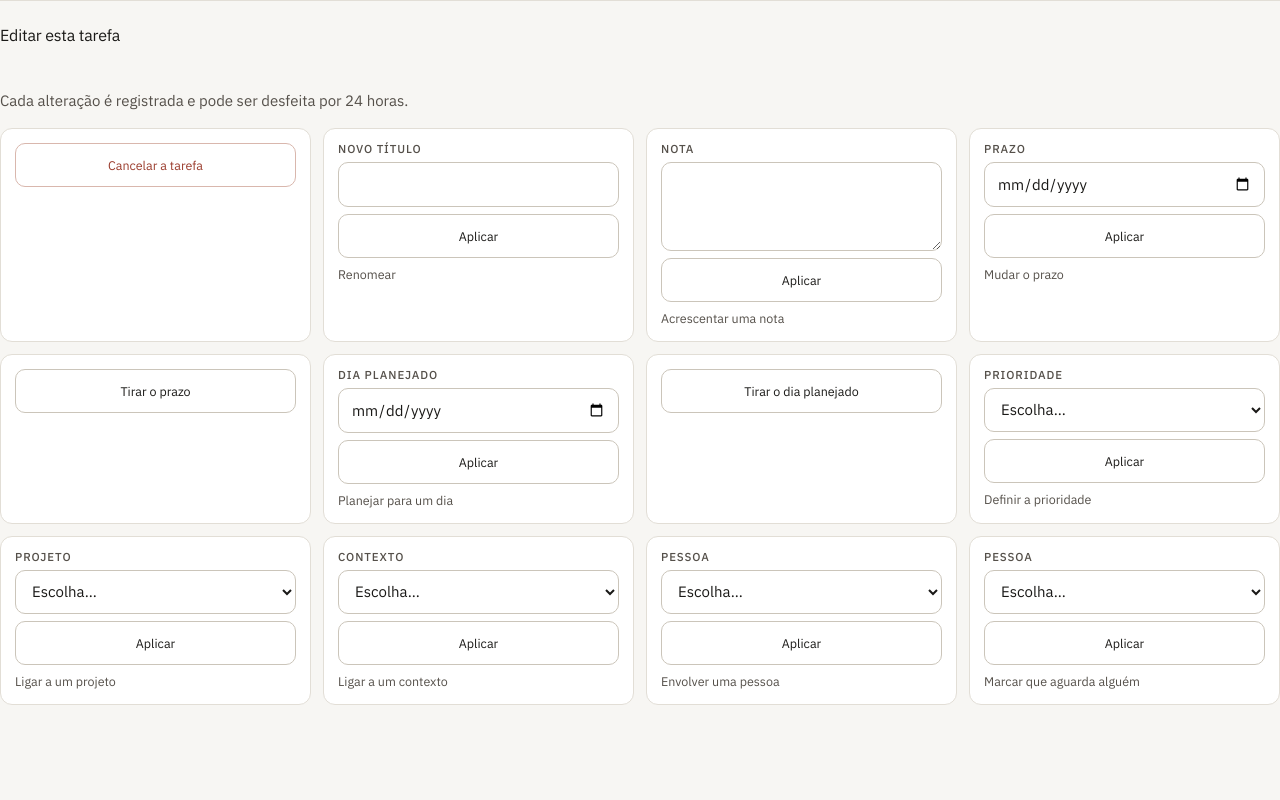
Test case: 2E-DESTRUCTIVE-003 — the dialog opens only after confirmation was issued › abandons the issued confirmation on dismissal, submitting nothing
Click the button "Cancelar a tarefa" at [156, 165], box [15, 143, 296, 187]
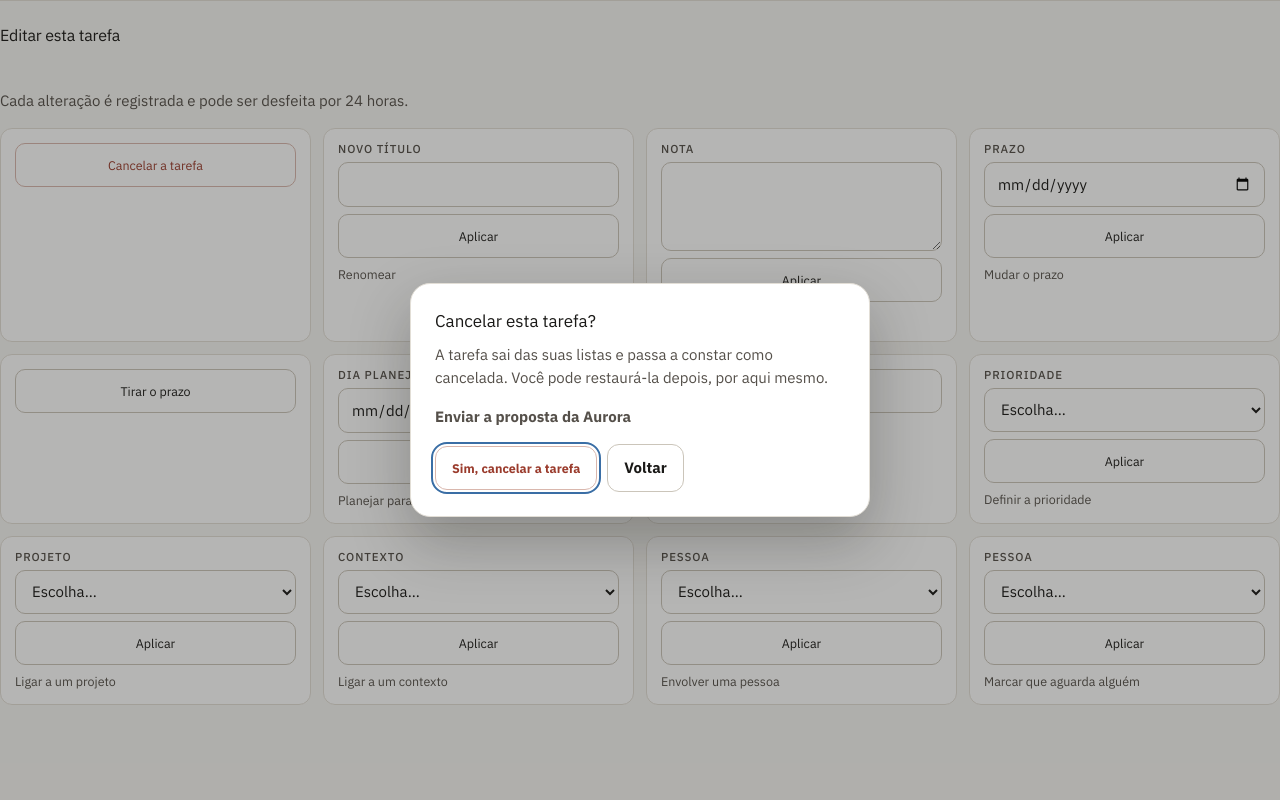
Click the button "Voltar" at [646, 468], box [607, 444, 684, 492]
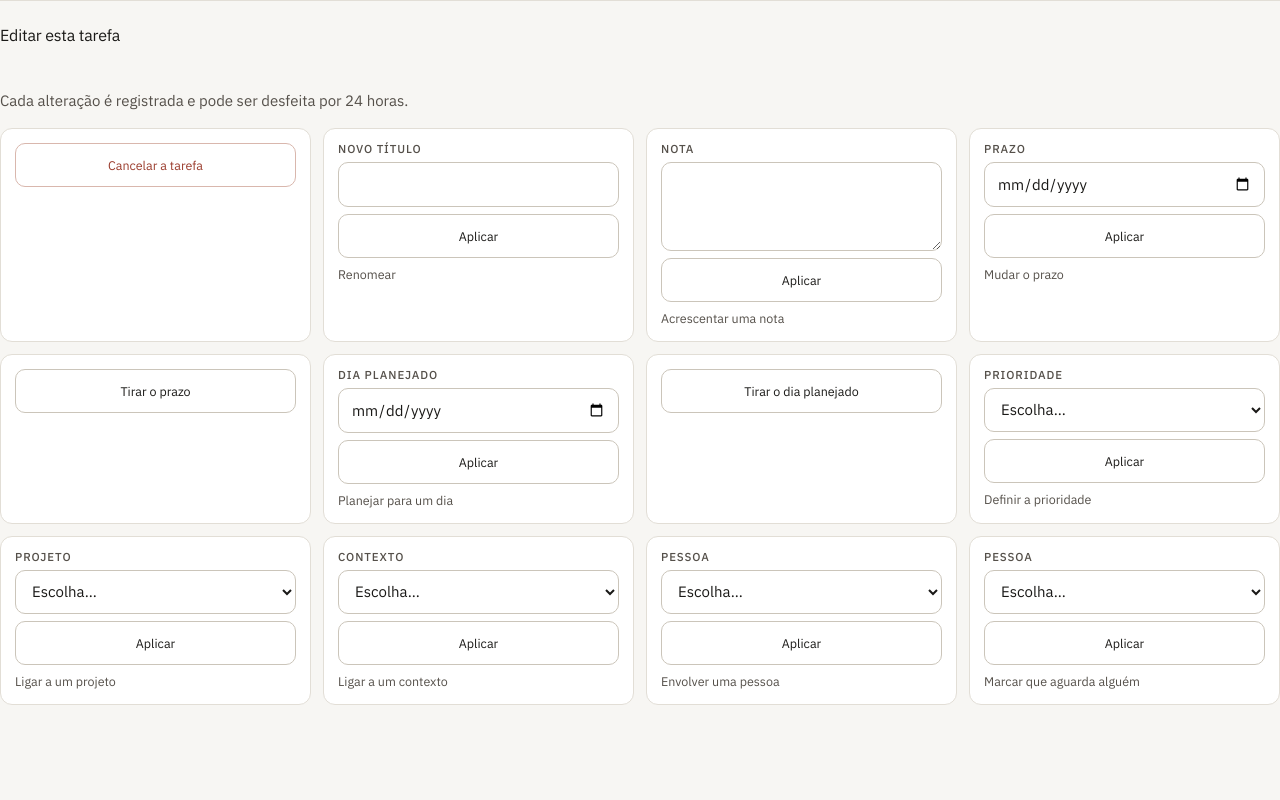
Expected: the dialog is gone
